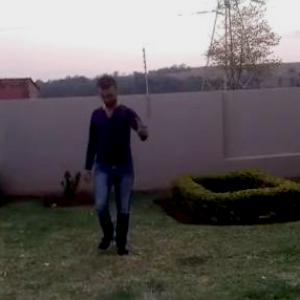takeoff-hand: (127, 106, 152, 144)
